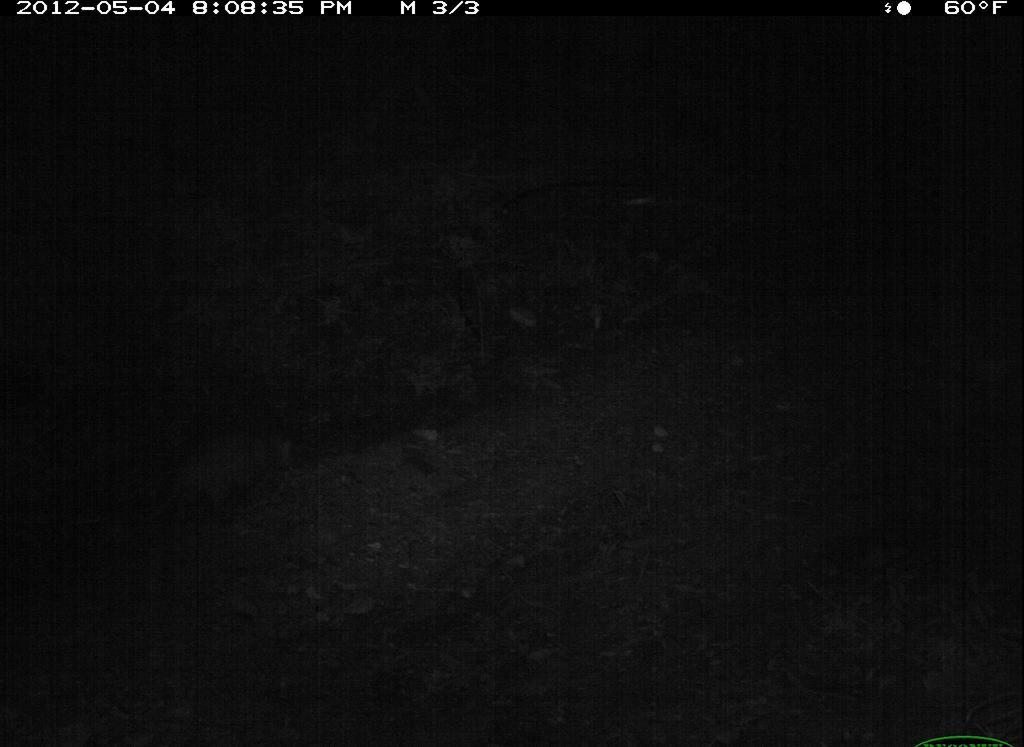opossum: (132, 411, 327, 538)
